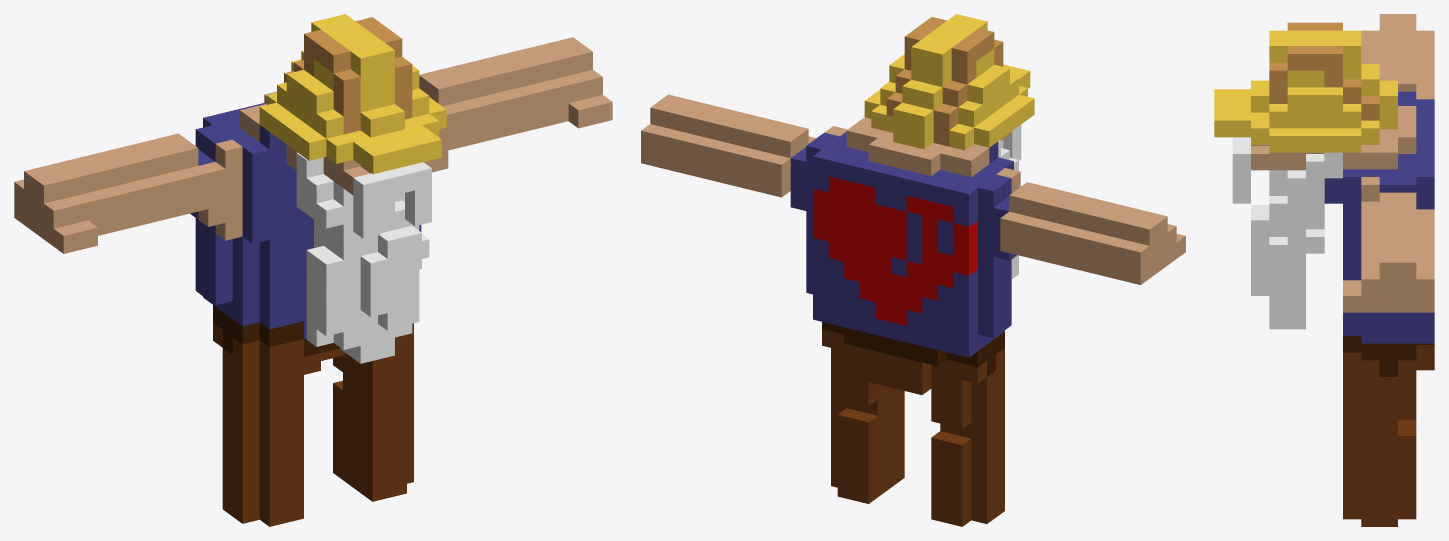
File: Player.dae
The picture shows the model from 3 angles, left to right: view 1: azimuth 30°, elevation 25°; view 2: azimuth 150°, elevation 25°; view 3: azimuth 270°, elevation 25°; orthographic projection. The views are drawn at different scales.
Visible parts, largest first — view 1: ObjObject; view 2: ObjObject; view 3: ObjObject.
Boxes of the visible parts, x1,y1,x2,y2 form: ObjObject: (14,14,612,526); ObjObject: (641,14,1185,526); ObjObject: (1214,14,1434,526).
Size of the model in its own units: 3.2 by 1.2 by 2.7.
1 material, 1 textured.
